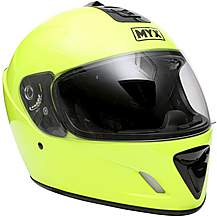with_helmet: (1, 1, 217, 215)
